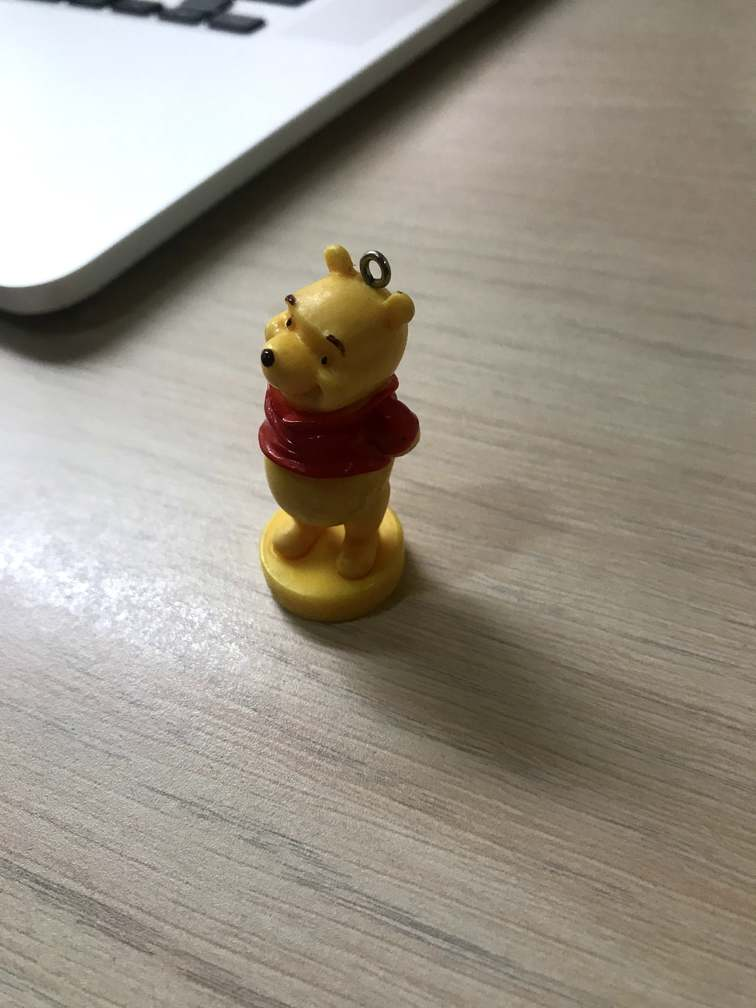Winnie: (255, 251, 434, 465)
